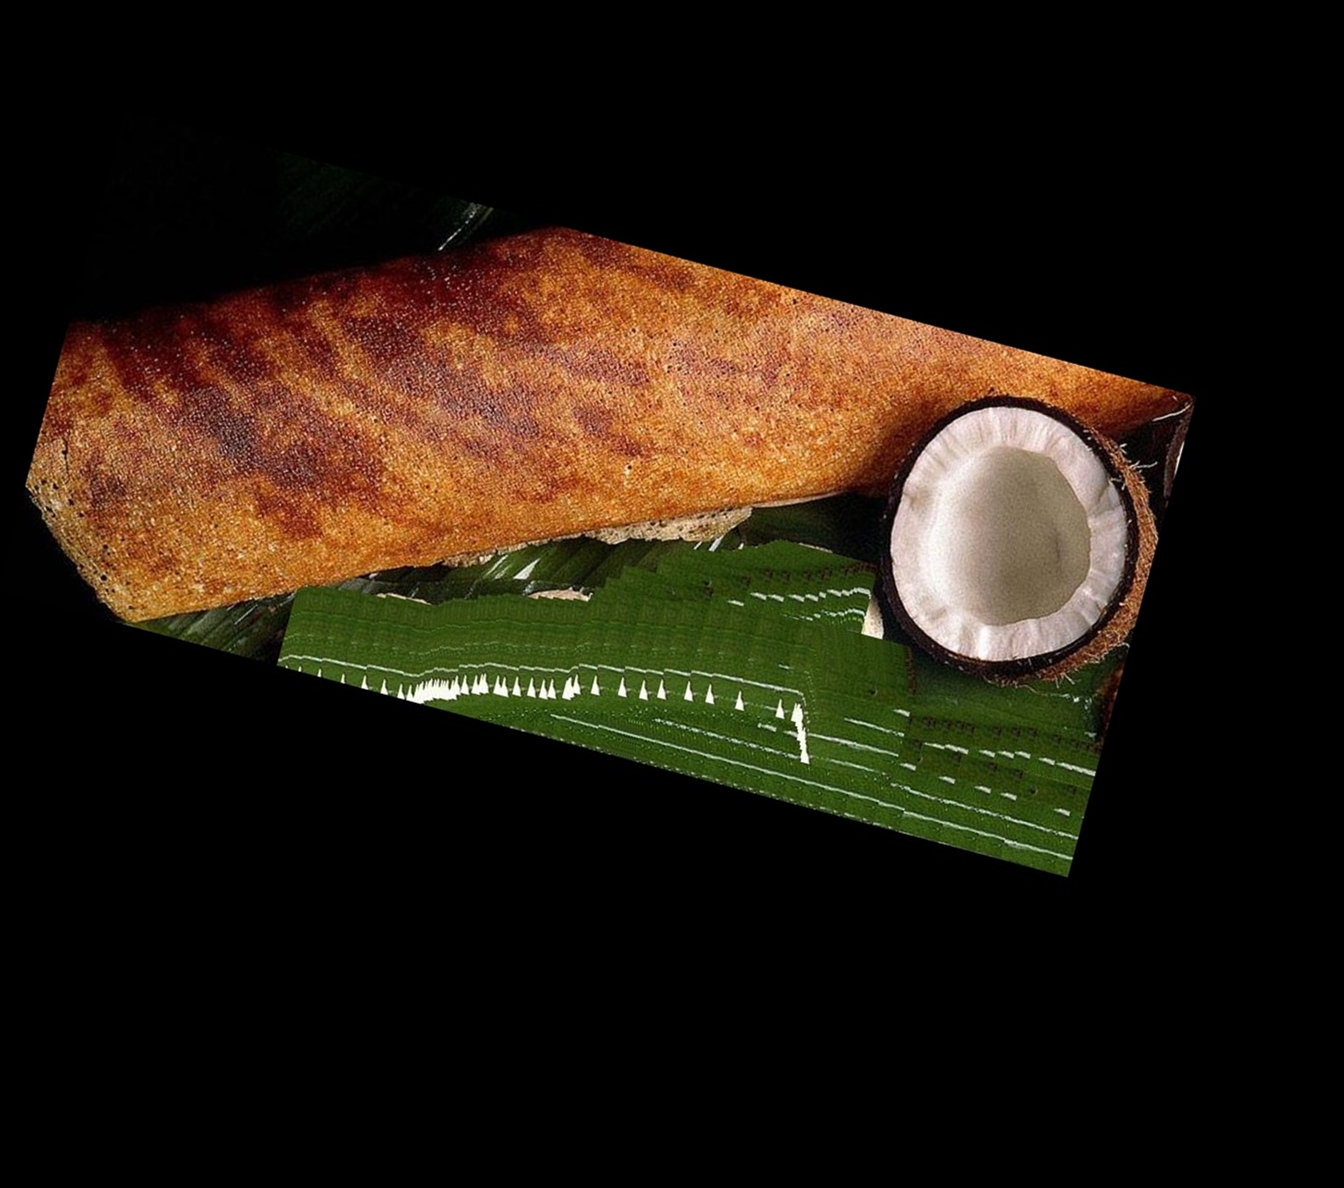dosa: (28, 239, 1227, 625)
